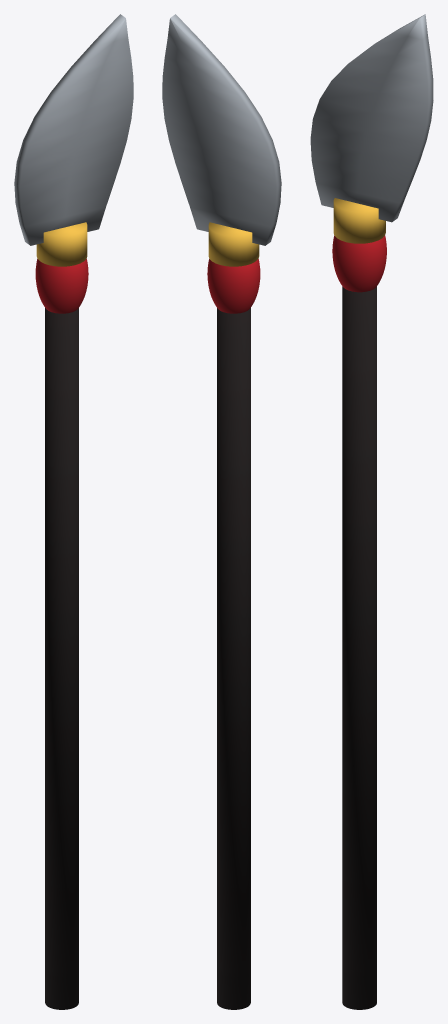
Rendered from guandao.glb.
3 views of the same model, side by side, from view 1: azimuth 30°, elevation 25°; view 2: azimuth 150°, elevation 25°; view 3: azimuth 330°, elevation 25° (orthographic). The views are drawn at different scales.
Visible parts, largest first — view 1: guandao_fijo; view 2: guandao_fijo; view 3: guandao_fijo.
Boxes of the visible parts, left/top/right/bottom form: guandao_fijo: left=14, top=14, right=133, bottom=1009; guandao_fijo: left=162, top=14, right=281, bottom=1009; guandao_fijo: left=310, top=14, right=433, bottom=1009.
Bounding box in the file's own units: 0.4652 × 3.8 × 0.1877.
Materials: 1 (1 with a texture image).
